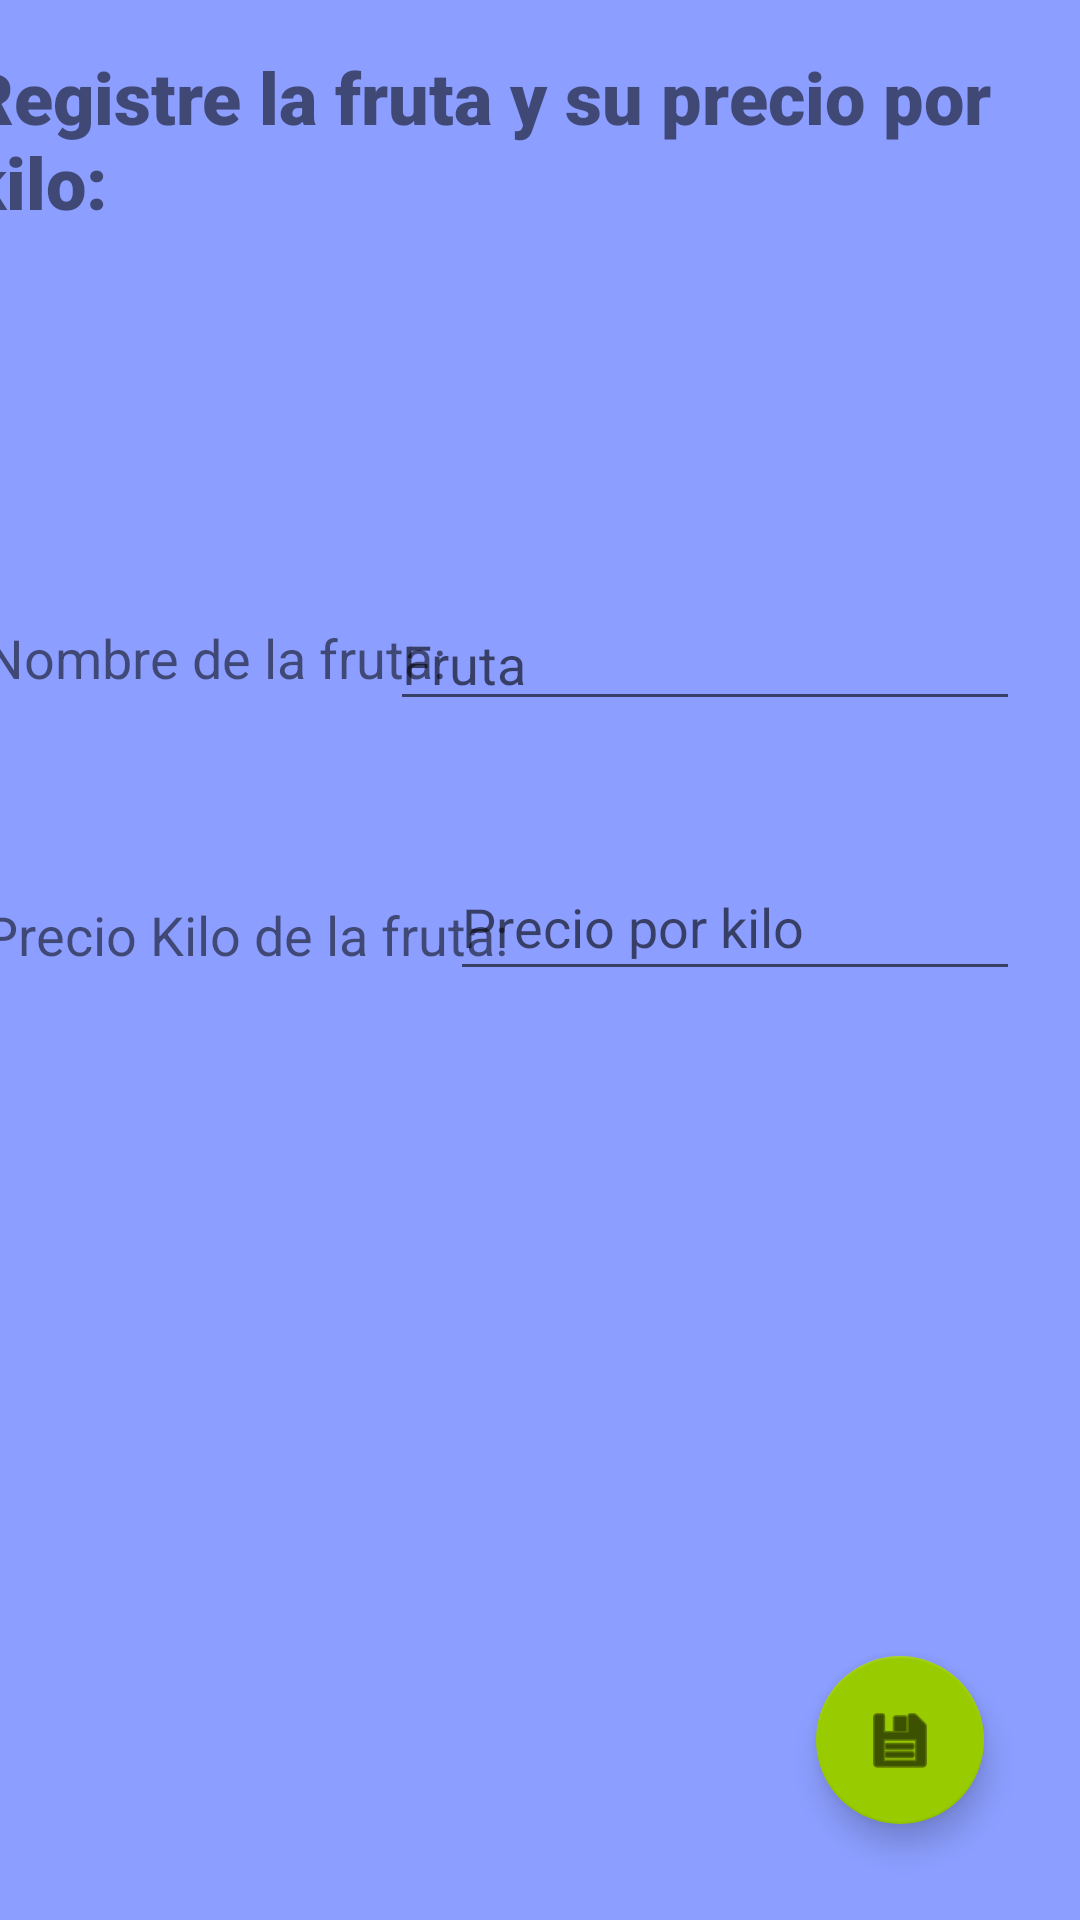

Point at icon controls on the screen. Image size 1080 x 1920, points as (x=x, y=y).
Guardar la cosecha: (x=900, y=1740)
